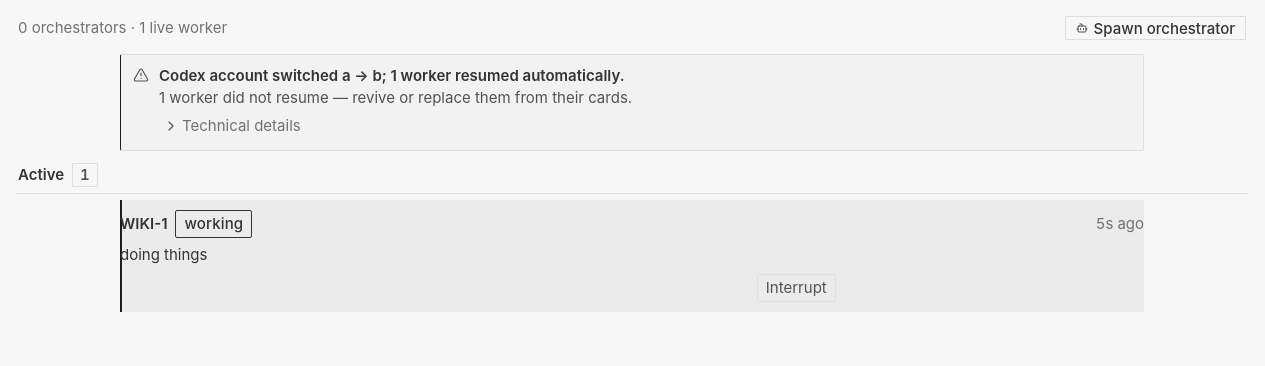
Test: codex_rotation failures keep failed_reasons behind the details disclosure
Expected: the text "did not resume" is shown, [159,88,632,107]
Expected: the text "server exited" is not shown
Click the button "Technical details": (232, 125) [159,111,305,139]
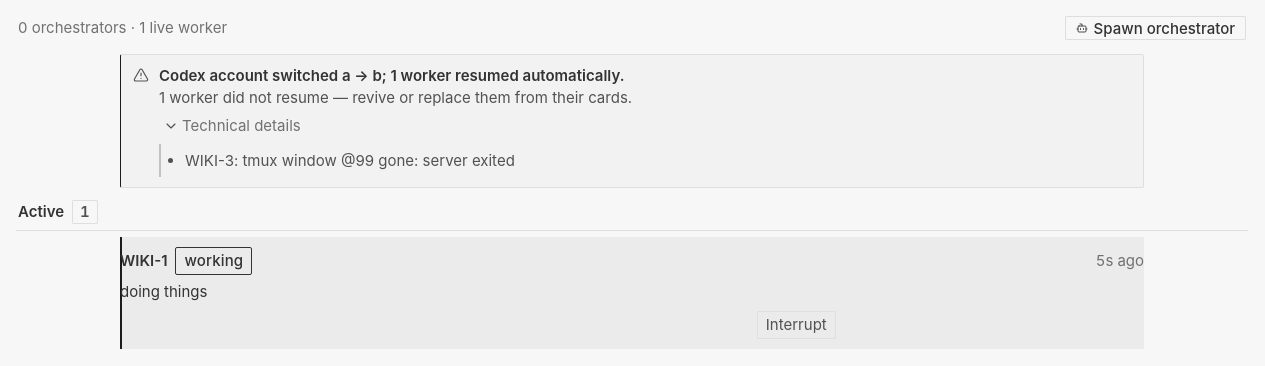
Expected: the list item "WIKI-3: tmux window @99 gone: server exited" is shown, [185,151,515,170]
